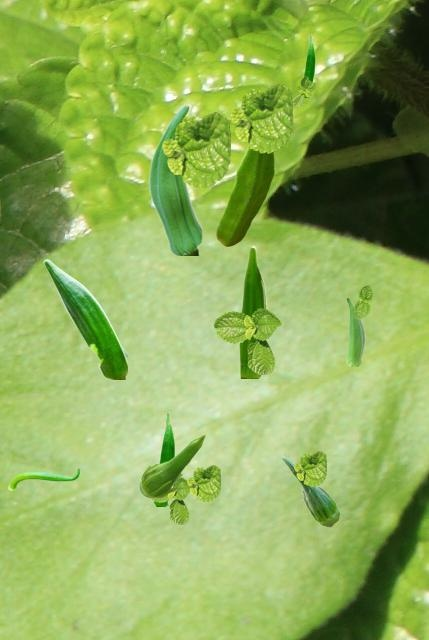okra: (43, 259, 126, 378), (148, 103, 201, 254), (216, 146, 273, 245), (139, 433, 205, 497), (281, 455, 339, 526), (239, 245, 266, 377), (153, 411, 174, 505), (8, 468, 78, 489), (346, 297, 364, 365), (303, 34, 314, 81)
